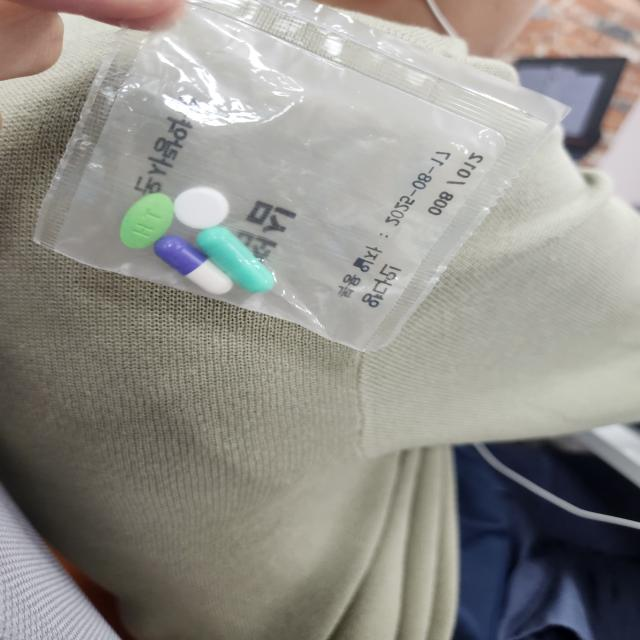러키펜정: (174, 187, 230, 232)
씨엠지세파클러캡슐: (151, 235, 233, 297)
에르도캡슐: (192, 227, 278, 295)
휴티렌정: (119, 193, 175, 253)
